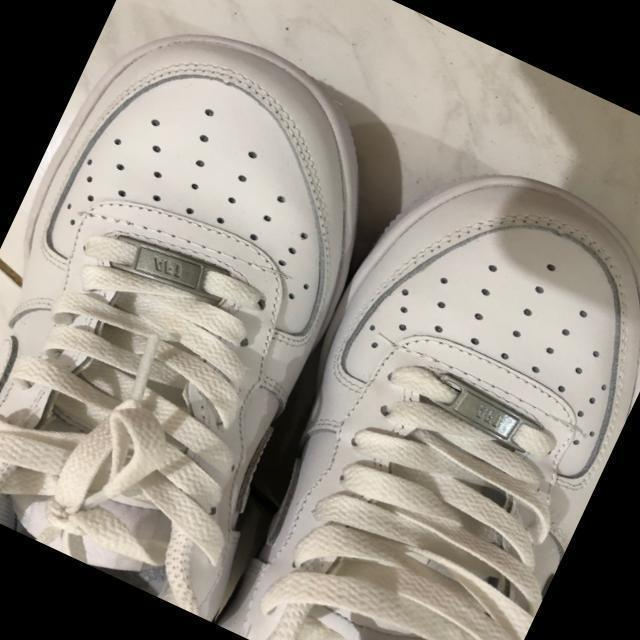nike fake air force: (0, 0, 433, 618), (195, 118, 640, 640)
